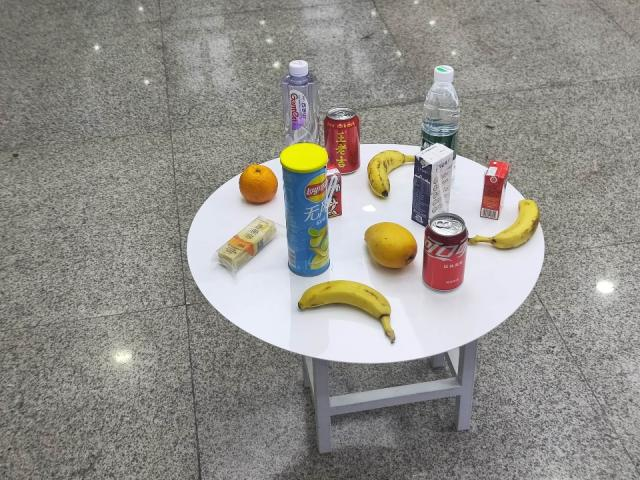Canned_drinks: (423, 213, 469, 295), (327, 105, 365, 176), (481, 161, 511, 223)
bottle: (418, 65, 461, 152), (281, 61, 321, 146)
cylinder: (278, 143, 339, 274)
drink_box: (411, 143, 454, 227)
